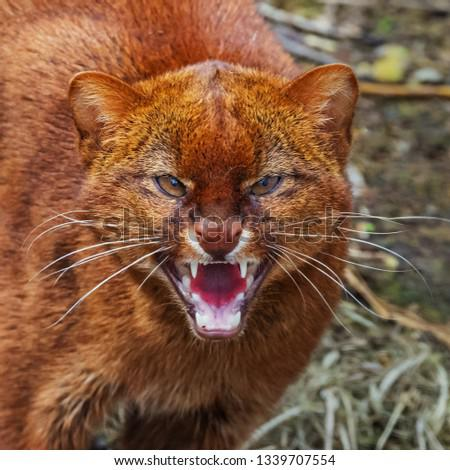Jaguarundi: (16, 9, 375, 418)
